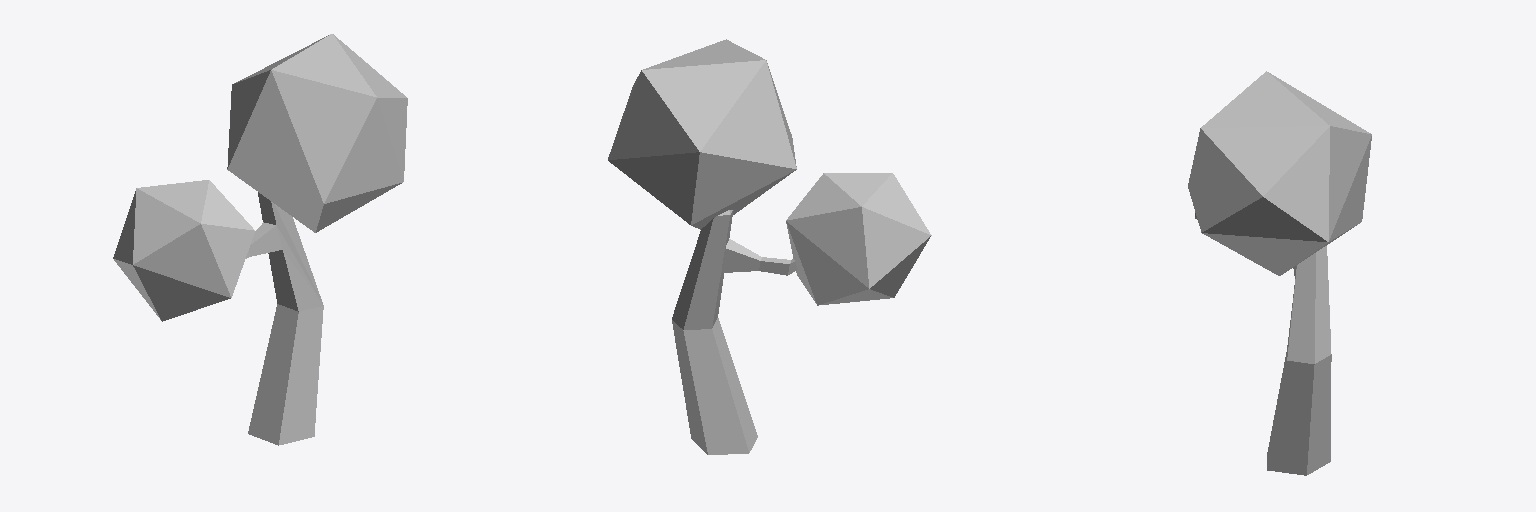
The model's file is tree2.obj.
3 renders of one model, left to right at view 1: azimuth 30°, elevation 25°; view 2: azimuth 150°, elevation 25°; view 3: azimuth 270°, elevation 25°, orthographic.
Parts seen in each view (by area): view 1: default; view 2: default; view 3: default.
Part boxes in pixels (bbox=[...]): default: bbox=[113, 34, 407, 445]; default: bbox=[608, 39, 931, 454]; default: bbox=[1188, 71, 1371, 475].
Size of the model in its own units: 2.01 by 2.53 by 1.12.